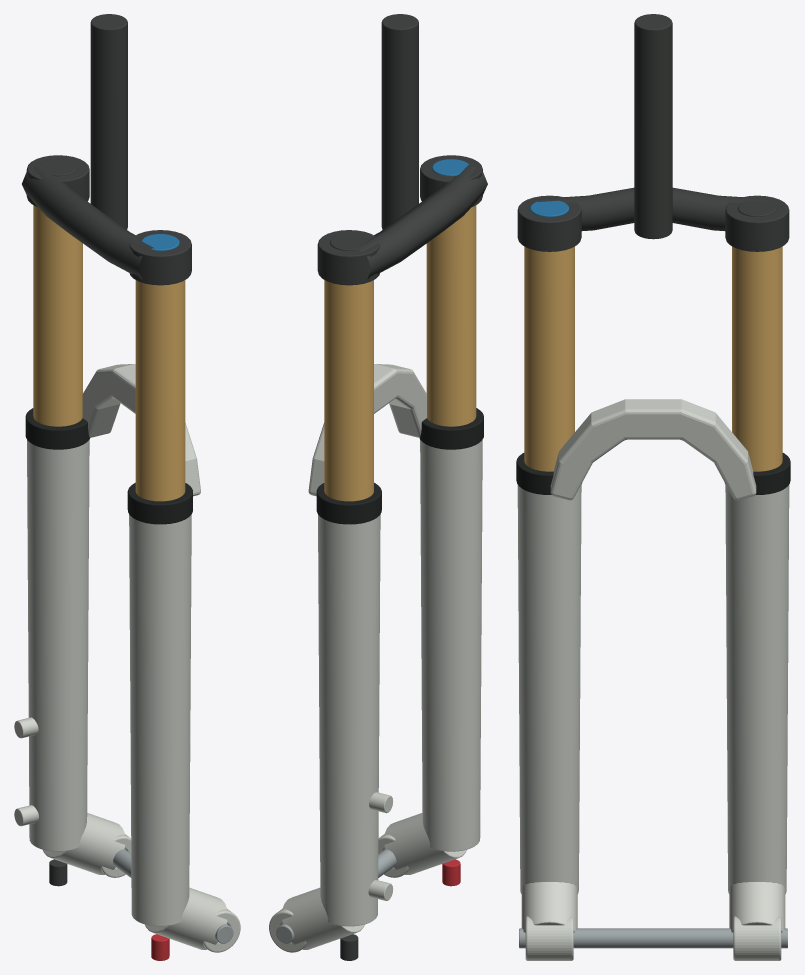
The model's file is fox-38-factory-my27--414988df.glb.
3 renders of one model, left to right at view 1: azimuth 30°, elevation 25°; view 2: azimuth 150°, elevation 25°; view 3: azimuth 270°, elevation 25°, orthographic.
Visible parts, largest first — view 1: fox-38-factory-my27--414988df__frame, fox-38-factory-my27--414988df__stanchions, fox-38-factory-my27--414988df__link, fox-38-factory-my27--414988df__protection, fox-38-factory-my27--414988df__bolts, fox-38-factory-my27--414988df__adjuster; view 2: fox-38-factory-my27--414988df__frame, fox-38-factory-my27--414988df__stanchions, fox-38-factory-my27--414988df__link, fox-38-factory-my27--414988df__protection, fox-38-factory-my27--414988df__bolts, fox-38-factory-my27--414988df__adjuster; view 3: fox-38-factory-my27--414988df__frame, fox-38-factory-my27--414988df__stanchions, fox-38-factory-my27--414988df__link, fox-38-factory-my27--414988df__bolts, fox-38-factory-my27--414988df__protection.
Boxes of the visible parts, box(x1,y1,x2,y2) form: fox-38-factory-my27--414988df__frame: box(14, 364, 240, 952); fox-38-factory-my27--414988df__stanchions: box(33, 205, 185, 501); fox-38-factory-my27--414988df__link: box(22, 14, 191, 886); fox-38-factory-my27--414988df__protection: box(25, 408, 192, 524); fox-38-factory-my27--414988df__bolts: box(113, 849, 233, 943); fox-38-factory-my27--414988df__adjuster: box(141, 234, 179, 250); fox-38-factory-my27--414988df__frame: box(269, 364, 482, 952); fox-38-factory-my27--414988df__stanchions: box(324, 205, 476, 501); fox-38-factory-my27--414988df__link: box(317, 14, 487, 960); fox-38-factory-my27--414988df__protection: box(316, 408, 483, 524); fox-38-factory-my27--414988df__bolts: box(276, 849, 396, 943); fox-38-factory-my27--414988df__adjuster: box(432, 159, 468, 176); fox-38-factory-my27--414988df__frame: box(517, 399, 789, 960); fox-38-factory-my27--414988df__stanchions: box(524, 246, 782, 471); fox-38-factory-my27--414988df__link: box(517, 14, 789, 251); fox-38-factory-my27--414988df__bolts: box(519, 928, 787, 948); fox-38-factory-my27--414988df__protection: box(516, 453, 790, 494).
Bounding box in the file's own units: 0.1 × 0.757 × 0.206.
